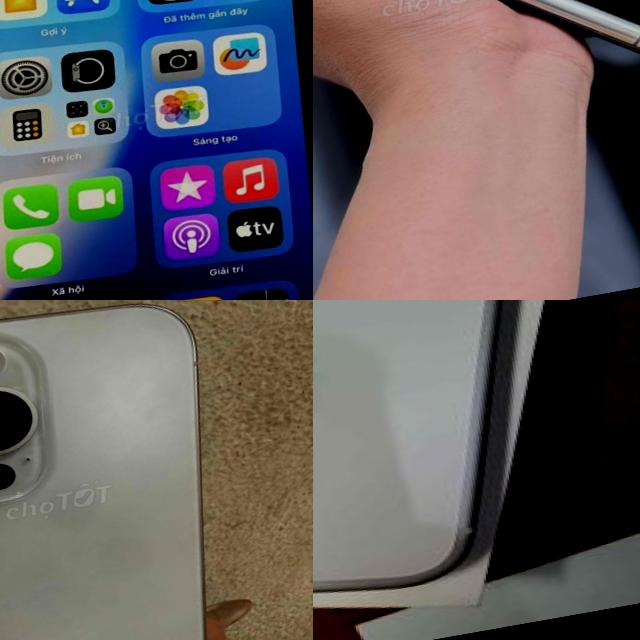gen_11: (313, 0, 640, 177)
gen_15: (0, 300, 280, 640)
gen_17: (313, 300, 617, 640)
gen_x_xs: (0, 0, 313, 300)
